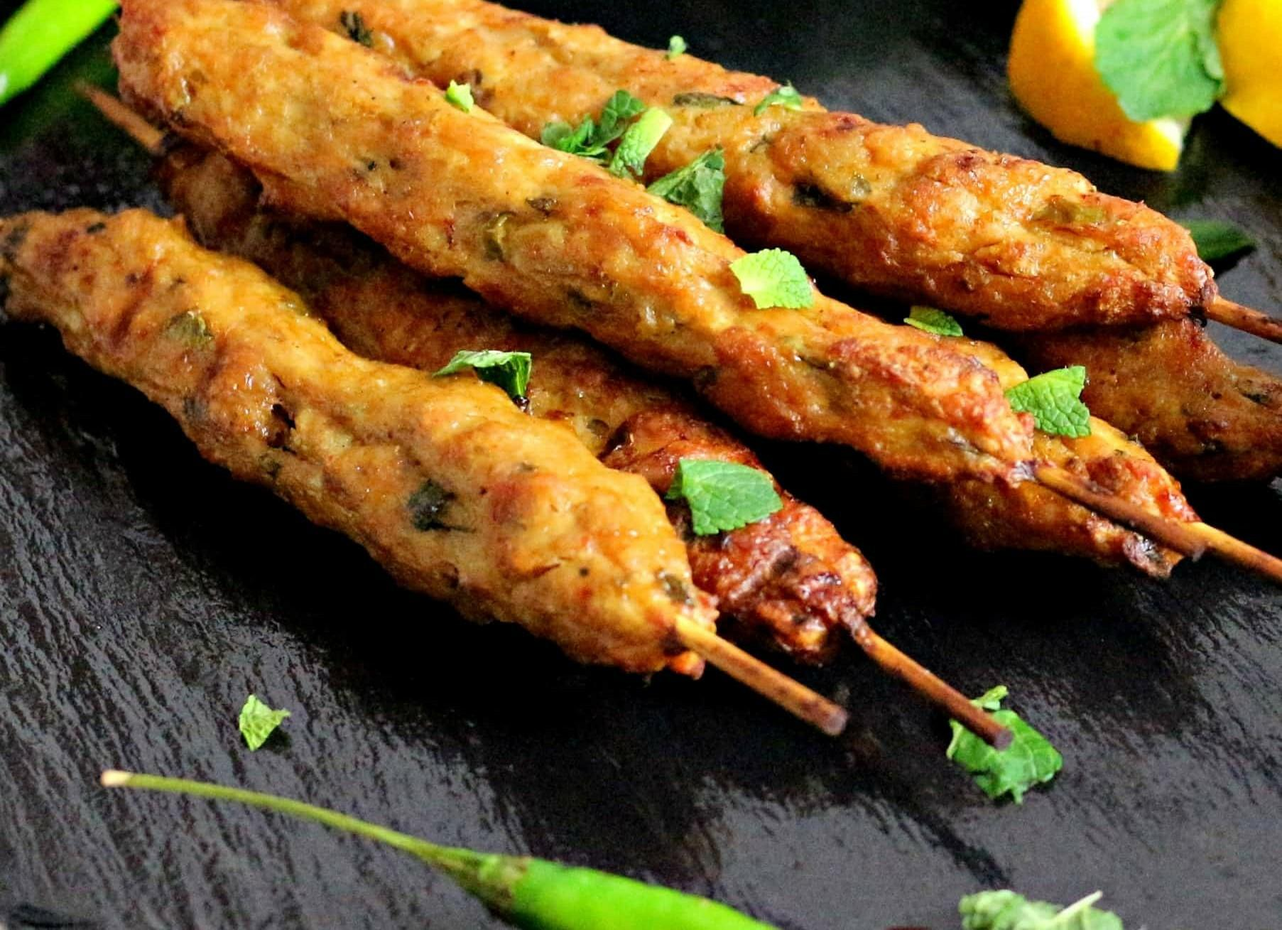Kebab: (112, 0, 1198, 576), (169, 135, 876, 654), (0, 211, 694, 677), (283, 0, 1203, 332), (1011, 316, 1282, 483)
